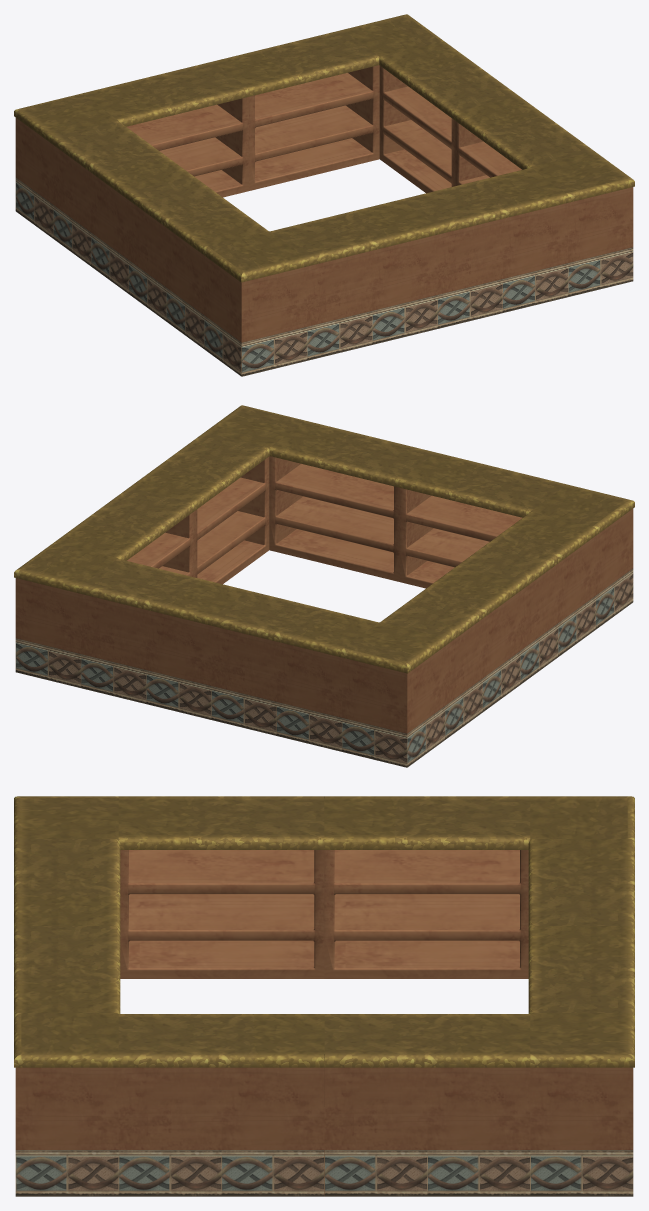
The model's file is DI_counter_shop.glb.
3 views of the same model, one above another, from view 1: azimuth 30°, elevation 25°; view 2: azimuth 150°, elevation 25°; view 3: azimuth 270°, elevation 25° (orthographic). The views are drawn at different scales.
Parts seen in each view (by area): view 1: DI_counter_shop; view 2: DI_counter_shop; view 3: DI_counter_shop.
Boxes of the visible parts, bbox=[...] form: DI_counter_shop: bbox=[14, 14, 634, 376]; DI_counter_shop: bbox=[14, 405, 634, 767]; DI_counter_shop: bbox=[14, 796, 634, 1196].
Size of the model in its own units: 4.52 by 1.12 by 4.52.
3 materials, 3 textured.
